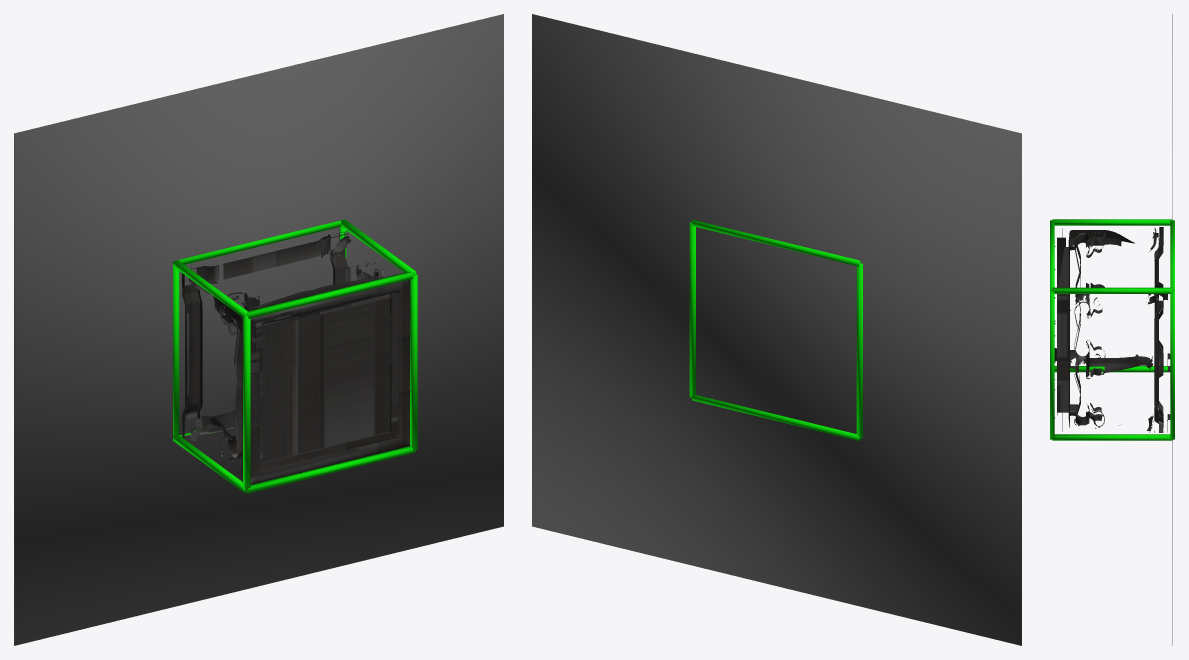
3 renders of one model, left to right at view 1: azimuth 30°, elevation 25°; view 2: azimuth 150°, elevation 25°; view 3: azimuth 270°, elevation 25°, orthographic. The views are drawn at different scales.
Size of the model in its own units: 2 by 2 by 0.5254.
